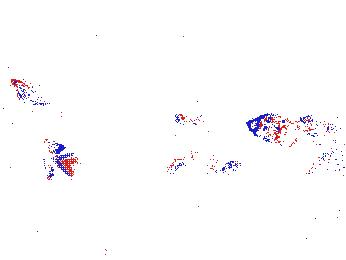X-ray fish: (246, 112, 316, 148)
red belly glassfish: (10, 76, 55, 115), (171, 106, 228, 134)
redtail glassfish: (163, 148, 243, 179), (24, 135, 77, 180)
